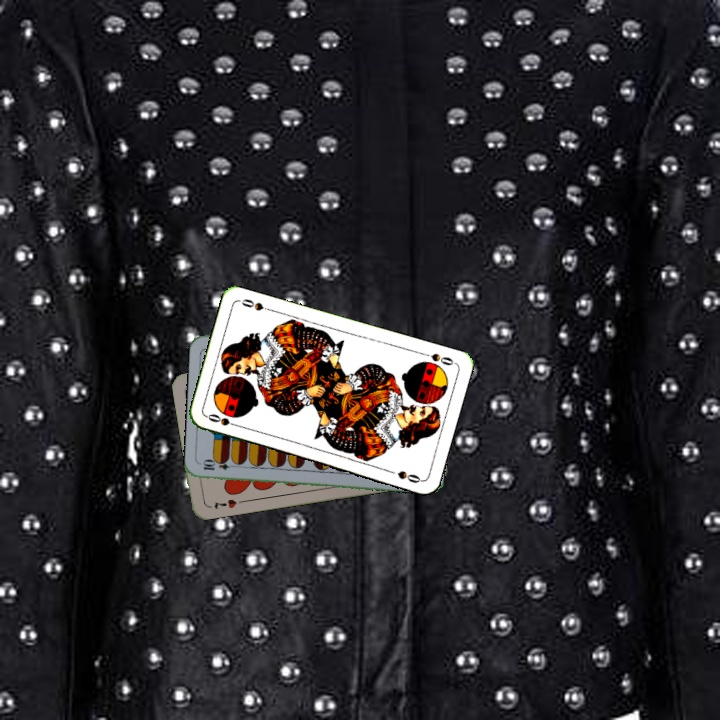E10: (199, 458, 239, 473)
H7: (210, 495, 239, 512)
SO: (203, 410, 243, 430), (417, 348, 457, 368)
